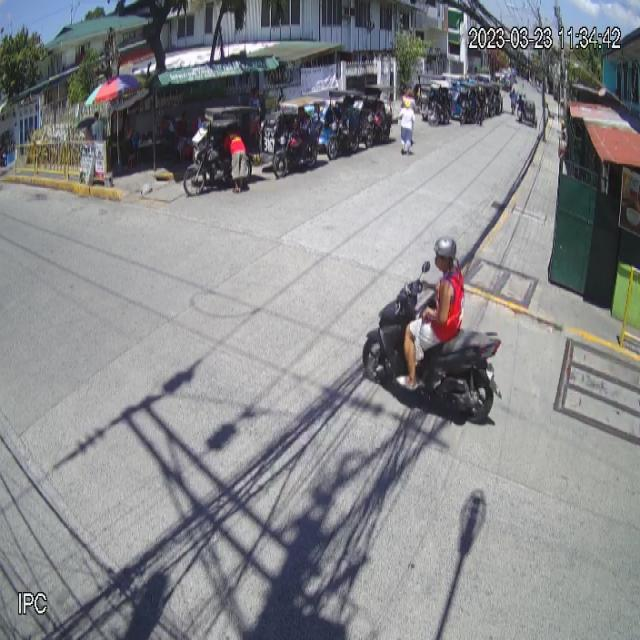Motorcycle: (362, 257, 507, 426)
